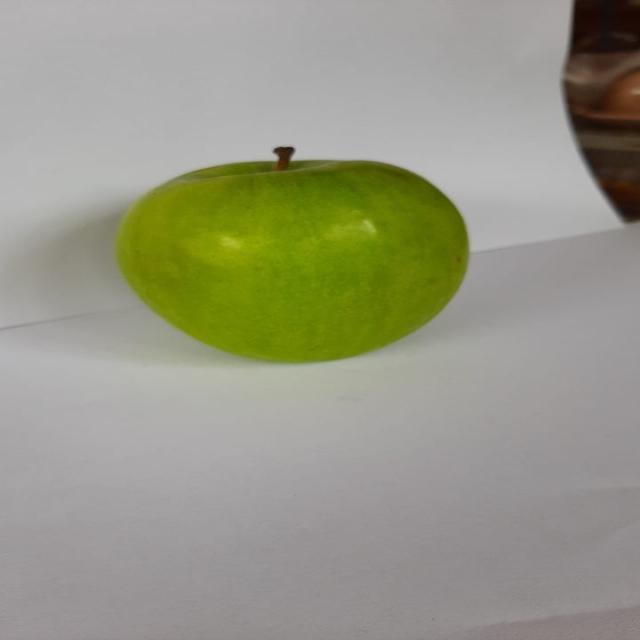50-_ripeness: (91, 139, 488, 375)
